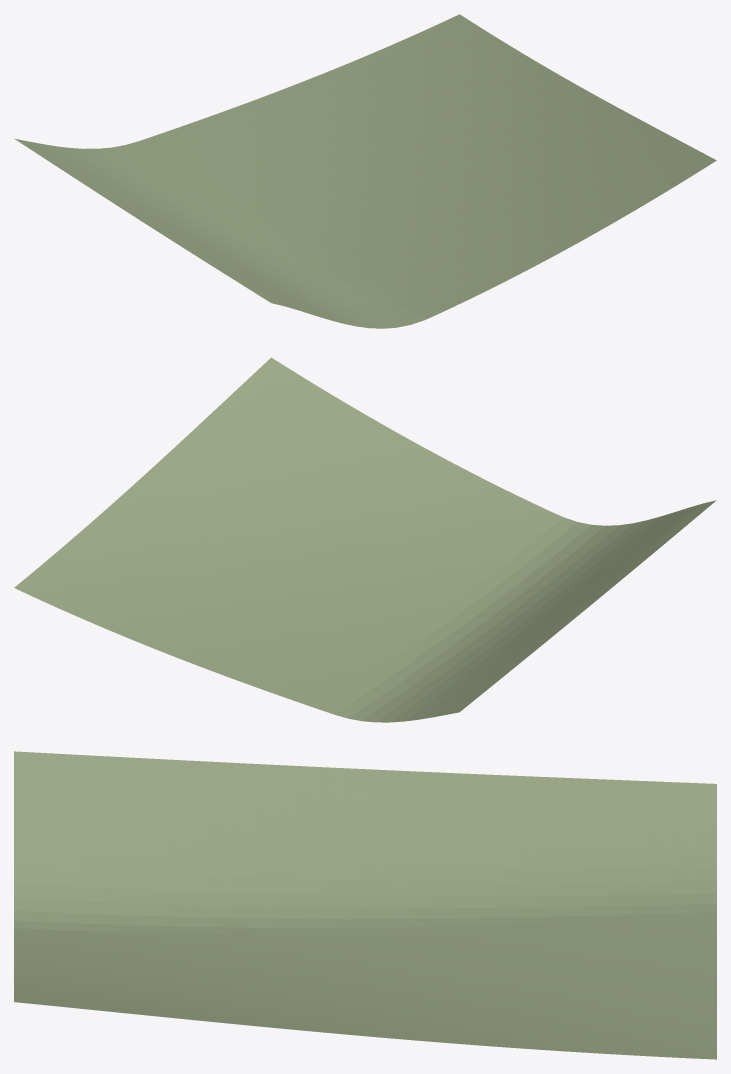
File: alpine-3-5.glb
The picture shows the model from 3 angles, top to bottom: view 1: azimuth 30°, elevation 25°; view 2: azimuth 150°, elevation 25°; view 3: azimuth 270°, elevation 25°; orthographic projection. The views are drawn at different scales.
Parts seen in each view (by area): view 1: alpine-3-5; view 2: alpine-3-5; view 3: alpine-3-5.
Boxes of the visible parts, x1=… form: alpine-3-5: x1=14, y1=14, x2=716, y2=328; alpine-3-5: x1=14, y1=357, x2=716, y2=722; alpine-3-5: x1=14, y1=751, x2=716, y2=1059.
Size of the model in its own units: 256 by 52.47 by 256.
